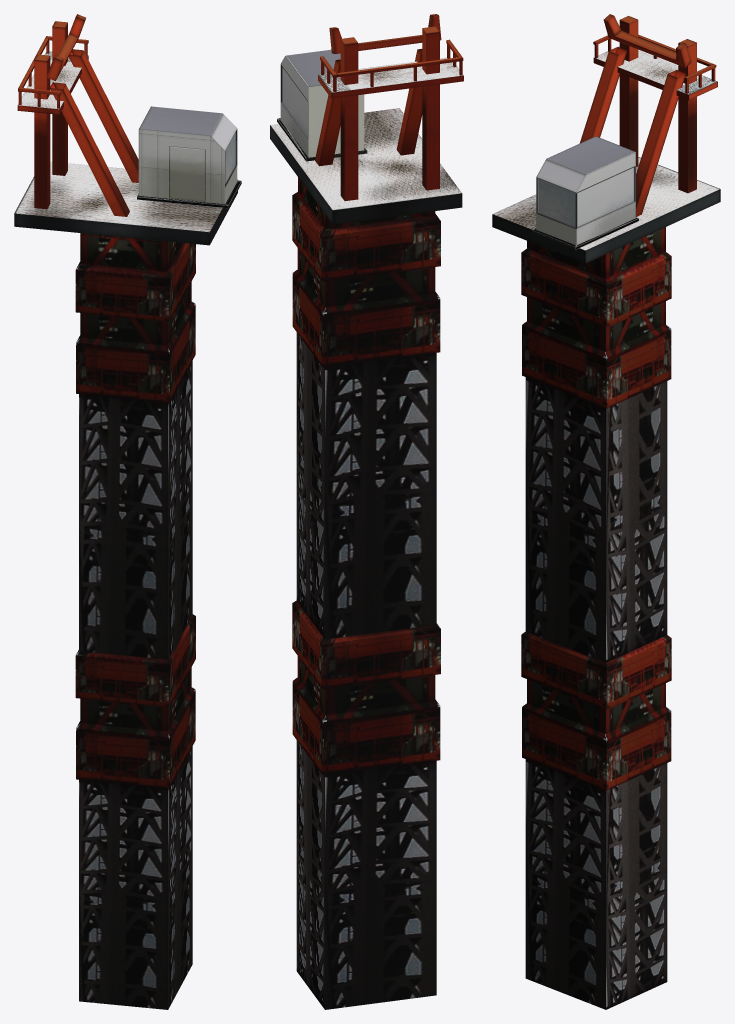
File: kure-n4-dodai.obj
3 views of the same model, side by side, from view 1: azimuth 30°, elevation 25°; view 2: azimuth 150°, elevation 25°; view 3: azimuth 270°, elevation 25° (orthographic). The views are drawn at different scales.
Size of the model in its own units: 13.99 by 61.86 by 13.75.
1 material, 1 textured.
